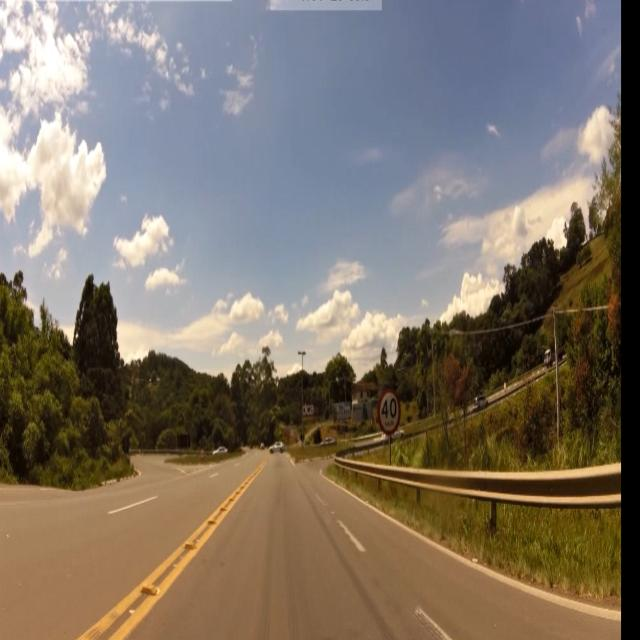R-19: (378, 388, 402, 440)
